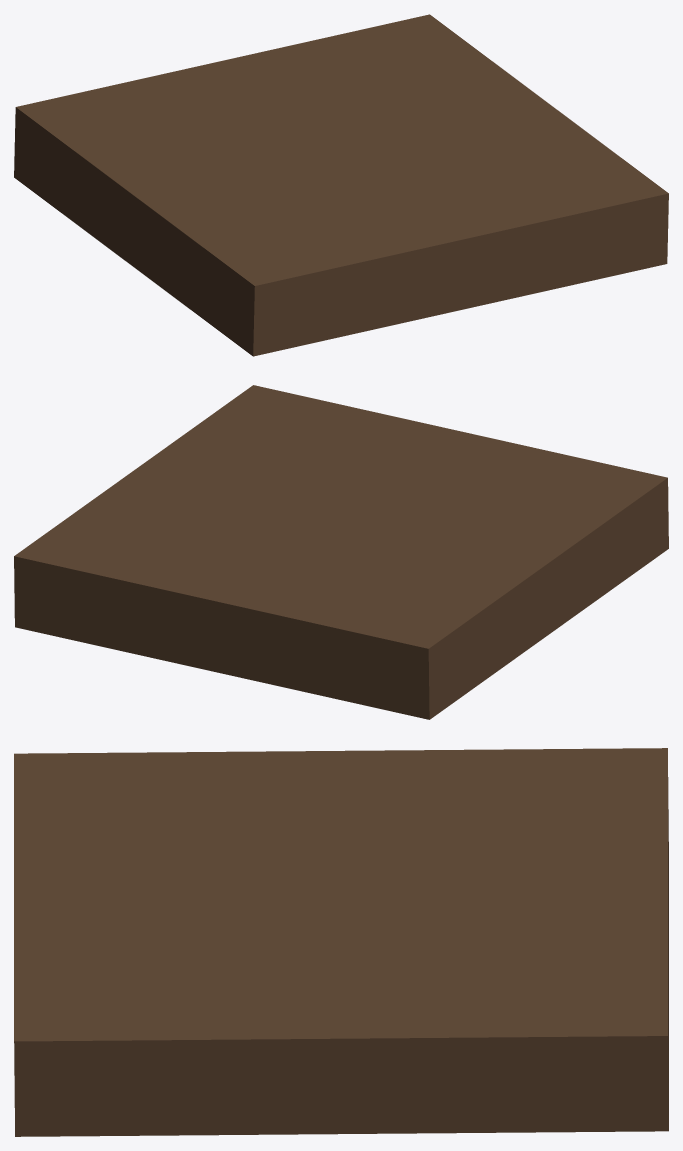
Rendered from Carne.glb.
3 renders of one model, top to bottom at view 1: azimuth 30°, elevation 25°; view 2: azimuth 150°, elevation 25°; view 3: azimuth 270°, elevation 25°, orthographic. The views are drawn at different scales.
Visible parts, largest first — view 1: Carne; view 2: Carne; view 3: Carne.
Part boxes in pixels (bbox=[...]): Carne: bbox=[14, 14, 668, 356]; Carne: bbox=[14, 385, 668, 719]; Carne: bbox=[14, 748, 668, 1136].
Bounding box in the file's own units: 2.02 × 0.385 × 2.02.
